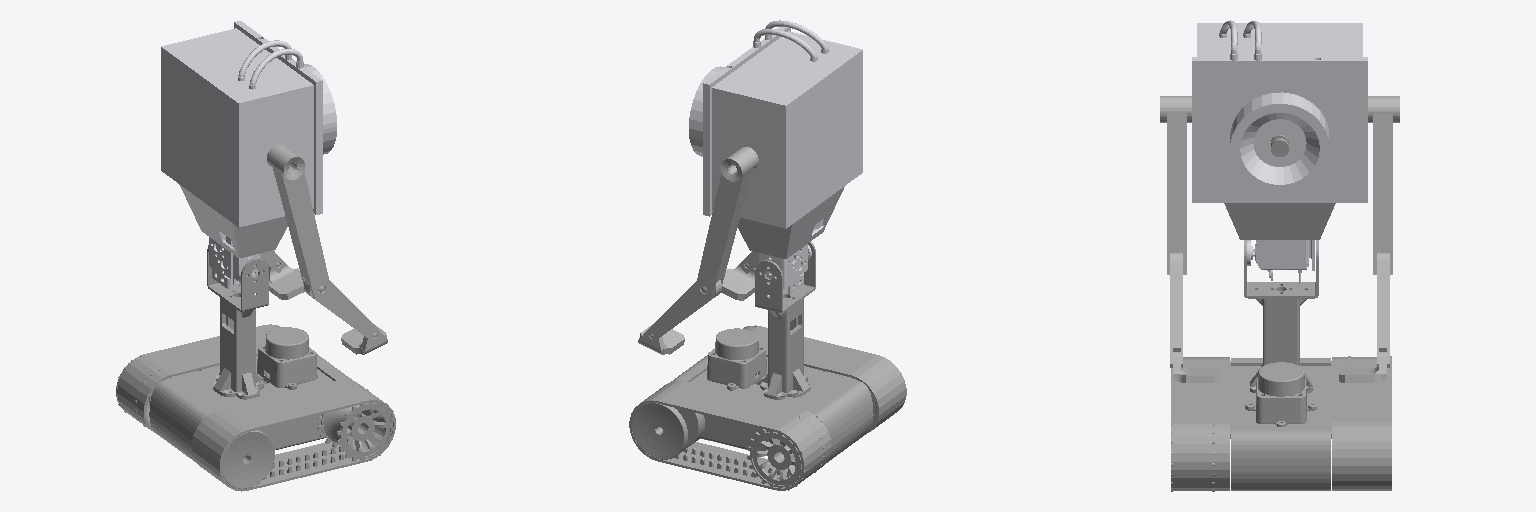
URDF robot description (黄油机器人总装.SLDASM):
<?xml version="1.0" encoding="utf-8"?>
<!-- This URDF was automatically created by SolidWorks to URDF Exporter! Originally created by [author] ([email redacted]) 
     Commit Version: 1.6.0-4-g7f85cfe  Build Version: 1.6.7995.38578
     For more information, please see http://wiki.ros.org/sw_urdf_exporter -->
<robot
  name="黄油机器人总装.SLDASM">
  <link
    name="base_link">
    <inertial>
      <origin
        xyz="-0.00292832832758017 -1.49208294795283E-06 0.0511834353991711"
        rpy="0 0 0" />
      <mass
        value="0.447143211592946" />
      <inertia
        ixx="0.000316214875469957"
        ixy="3.29989736433366E-07"
        ixz="-8.41032245913832E-08"
        iyy="0.00107570008691544"
        iyz="-4.25952370529777E-09"
        izz="0.000984927332267717" />
    </inertial>
    <visual>
      <origin
        xyz="0 0 0"
        rpy="0 0 0" />
      <geometry>
        <mesh
          filename="package://butter_robot_description/meshes/base_link.STL" />
      </geometry>
      <material
        name="">
        <color
          rgba="0.698039215686274 0.698039215686274 0.698039215686274 1" />
      </material>
    </visual>
    <collision>
      <origin
        xyz="0 0 0"
        rpy="0 0 0" />
      <geometry>
        <mesh
          filename="package://butter_robot_description/meshes/base_link.STL" />
      </geometry>
    </collision>
  </link>
  <link
    name="left_wheel_Link">
    <inertial>
      <origin
        xyz="0 0.0261582764619339 0"
        rpy="0 0 0" />
      <mass
        value="0.016704648971492" />
      <inertia
        ixx="6.0953073327811E-06"
        ixy="-5.08549572222708E-22"
        ixz="-5.30215339832847E-22"
        iyy="5.90760151421016E-06"
        iyz="-6.90750247993045E-21"
        izz="6.0953073327811E-06" />
    </inertial>
    <visual>
      <origin
        xyz="0 0 0"
        rpy="0 0 0" />
      <geometry>
        <mesh
          filename="package://butter_robot_description/meshes/left_wheel_Link.STL" />
      </geometry>
      <material
        name="">
        <color
          rgba="0.698039215686274 0.698039215686274 0.698039215686274 1" />
      </material>
    </visual>
    <collision>
      <origin
        xyz="0 0 0"
        rpy="0 0 0" />
      <geometry>
        <mesh
          filename="package://butter_robot_description/meshes/left_wheel_Link.STL" />
      </geometry>
    </collision>
  </link>
  <joint
    name="left_wheel_joint"
    type="continuous">
    <origin
      xyz="0.055 0.038192 0.021"
      rpy="0 0 0" />
    <parent
      link="base_link" />
    <child
      link="left_wheel_Link" />
    <axis
      xyz="0 1 0" />
  </joint>
  <link
    name="right_wheel_Link">
    <inertial>
      <origin
        xyz="-5.55111512312578E-17 -0.0261582764619342 1.11022302462516E-16"
        rpy="0 0 0" />
      <mass
        value="0.0167046489714922" />
      <inertia
        ixx="6.09530733278229E-06"
        ixy="-4.18274718313705E-22"
        ixz="1.15227170482192E-21"
        iyy="5.90760151421038E-06"
        iyz="-4.85071882610663E-22"
        izz="6.09530733278228E-06" />
    </inertial>
    <visual>
      <origin
        xyz="0 0 0"
        rpy="0 0 0" />
      <geometry>
        <mesh
          filename="package://butter_robot_description/meshes/right_wheel_Link.STL" />
      </geometry>
      <material
        name="">
        <color
          rgba="0.698039215686274 0.698039215686274 0.698039215686274 1" />
      </material>
    </visual>
    <collision>
      <origin
        xyz="0 0 0"
        rpy="0 0 0" />
      <geometry>
        <mesh
          filename="package://butter_robot_description/meshes/right_wheel_Link.STL" />
      </geometry>
    </collision>
  </link>
  <joint
    name="right_wheel_joint"
    type="continuous">
    <origin
      xyz="-0.055 -0.038192 0.021"
      rpy="0 0 0" />
    <parent
      link="base_link" />
    <child
      link="right_wheel_Link" />
    <axis
      xyz="0 -1 0" />
  </joint>
  <link
    name="radar_Link">
    <inertial>
      <origin
        xyz="-6.26931848729528E-06 -3.11780995042032E-05 0.00198624050311713"
        rpy="0 0 0" />
      <mass
        value="0.0135497960114241" />
      <inertia
        ixx="3.61947681707883E-06"
        ixy="3.38440833574244E-09"
        ixz="6.22863120765719E-09"
        iyy="3.56349923862262E-06"
        iyz="-5.8647614252197E-09"
        izz="4.10464453512146E-06" />
    </inertial>
    <visual>
      <origin
        xyz="0 0 0"
        rpy="0 0 0" />
      <geometry>
        <mesh
          filename="package://butter_robot_description/meshes/radar_Link.STL" />
      </geometry>
      <material
        name="">
        <color
          rgba="0.698039215686274 0.698039215686274 0.698039215686274 1" />
      </material>
    </visual>
    <collision>
      <origin
        xyz="0 0 0"
        rpy="0 0 0" />
      <geometry>
        <mesh
          filename="package://butter_robot_description/meshes/radar_Link.STL" />
      </geometry>
    </collision>
  </link>
  <joint
    name="radar_joint"
    type="fixed">
    <origin
      xyz="0.029032 0 0.0532"
      rpy="0 0 0" />
    <parent
      link="base_link" />
    <child
      link="radar_Link" />
    <axis
      xyz="0 0 0" />
  </joint>
  <link
    name="spine_Link">
    <inertial>
      <origin
        xyz="0.00921219263683126 0.0257956453067615 0.0864977425737939"
        rpy="0 0 0" />
      <mass
        value="0.476832015741623" />
      <inertia
        ixx="0.000978549246488073"
        ixy="-7.95709938134435E-07"
        ixz="1.34721390833068E-07"
        iyy="0.000569989000593808"
        iyz="4.1574780758212E-06"
        izz="0.000678453255078236" />
    </inertial>
    <visual>
      <origin
        xyz="0 0 0"
        rpy="0 0 0" />
      <geometry>
        <mesh
          filename="package://butter_robot_description/meshes/spine_Link.STL" />
      </geometry>
      <material
        name="">
        <color
          rgba="0.866666666666667 0.866666666666667 0.890196078431372 1" />
      </material>
    </visual>
    <collision>
      <origin
        xyz="0 0 0"
        rpy="0 0 0" />
      <geometry>
        <mesh
          filename="package://butter_robot_description/meshes/spine_Link.STL" />
      </geometry>
    </collision>
  </link>
  <joint
    name="spine_joint"
    type="revolute">
    <origin
      xyz="-0.016595 -0.026 0.15501"
      rpy="0 0 0" />
    <parent
      link="base_link" />
    <child
      link="spine_Link" />
    <axis
      xyz="0 1 0" />
    <limit
      lower="0"
      upper="0"
      effort="0"
      velocity="0" />
  </joint>
  <link
    name="camera_Link">
    <inertial>
      <origin
        xyz="-0.0121170231413265 -5.16154742259689E-07 0.000244839142819697"
        rpy="0 0 0" />
      <mass
        value="0.00395486151787577" />
      <inertia
        ixx="3.32122405395548E-07"
        ixy="7.47477339664124E-13"
        ixz="6.32591352996869E-09"
        iyy="2.92034948744687E-07"
        iyz="-4.99795164065902E-13"
        izz="2.88426646275173E-07" />
    </inertial>
    <visual>
      <origin
        xyz="0 0 0"
        rpy="0 0 0" />
      <geometry>
        <mesh
          filename="package://butter_robot_description/meshes/camera_Link.STL" />
      </geometry>
      <material
        name="">
        <color
          rgba="0.698039215686274 0.698039215686274 0.698039215686274 1" />
      </material>
    </visual>
    <collision>
      <origin
        xyz="0 0 0"
        rpy="0 0 0" />
      <geometry>
        <mesh
          filename="package://butter_robot_description/meshes/camera_Link.STL" />
      </geometry>
    </collision>
  </link>
  <joint
    name="camera_joint"
    type="fixed">
    <origin
      xyz="0.069858 0.024995 0.11868"
      rpy="0 0 0" />
    <parent
      link="spine_Link" />
    <child
      link="camera_Link" />
    <axis
      xyz="0 0 0" />
  </joint>
  <link
    name="left_arm_Link">
    <inertial>
      <origin
        xyz="0.0295565791825624 0.0112543076706821 -0.0875821033420051"
        rpy="0 0 0" />
      <mass
        value="0.0563464968853677" />
      <inertia
        ixx="4.70144557099414E-05"
        ixy="-9.05637316684821E-08"
        ixz="1.27896751265621E-05"
        iyy="5.19911100719117E-05"
        iyz="3.74801012828041E-07"
        izz="8.64637358263827E-06" />
    </inertial>
    <visual>
      <origin
        xyz="0 0 0"
        rpy="0 0 0" />
      <geometry>
        <mesh
          filename="package://butter_robot_description/meshes/left_arm_Link.STL" />
      </geometry>
      <material
        name="">
        <color
          rgba="0.752941176470588 0.752941176470588 0.752941176470588 1" />
      </material>
    </visual>
    <collision>
      <origin
        xyz="0 0 0"
        rpy="0 0 0" />
      <geometry>
        <mesh
          filename="package://butter_robot_description/meshes/left_arm_Link.STL" />
      </geometry>
    </collision>
  </link>
  <joint
    name="left_arm_joint"
    type="revolute">
    <origin
      xyz="-0.00014152 0.089595 0.11868"
      rpy="0 0 0" />
    <parent
      link="spine_Link" />
    <child
      link="left_arm_Link" />
    <axis
      xyz="0 -1 0" />
    <limit
      lower="0"
      upper="0"
      effort="0"
      velocity="0" />
  </joint>
  <link
    name="right_arm_Link">
    <inertial>
      <origin
        xyz="0.0296716767832235 -0.0112543076779538 -0.0875540624679464"
        rpy="0 0 0" />
      <mass
        value="0.0563464968970425" />
      <inertia
        ixx="4.70007133198319E-05"
        ixy="9.17740166440466E-08"
        ixz="1.28162047525588E-05"
        iyy="5.1991110133436E-05"
        iyz="-3.74506162811522E-07"
        izz="8.66011596552853E-06" />
    </inertial>
    <visual>
      <origin
        xyz="0 0 0"
        rpy="0 0 0" />
      <geometry>
        <mesh
          filename="package://butter_robot_description/meshes/right_arm_Link.STL" />
      </geometry>
      <material
        name="">
        <color
          rgba="0.752941176470588 0.752941176470588 0.752941176470588 1" />
      </material>
    </visual>
    <collision>
      <origin
        xyz="0 0 0"
        rpy="0 0 0" />
      <geometry>
        <mesh
          filename="package://butter_robot_description/meshes/right_arm_Link.STL" />
      </geometry>
    </collision>
  </link>
  <joint
    name="right_arm_joint"
    type="revolute">
    <origin
      xyz="-0.00014152 -0.039605 0.11868"
      rpy="0 0 0" />
    <parent
      link="spine_Link" />
    <child
      link="right_arm_Link" />
    <axis
      xyz="0 -1 0" />
    <limit
      lower="0"
      upper="0"
      effort="0"
      velocity="0" />
  </joint>
</robot>

--- Render facts (derived) ---
3 views of the same robot in one strip: view 1: azimuth 30°, elevation 25°; view 2: azimuth 150°, elevation 25°; view 3: azimuth 270°, elevation 25° (orthographic).
Robot: 黄油机器人总装.SLDASM — 8 links, 7 joints (3 revolute, 2 continuous, 2 fixed); root link base_link; default pose: all joints at 0.
Links seen in each view (by area): view 1: spine_Link, base_link, right_arm_Link, radar_Link, right_wheel_Link, left_arm_Link; view 2: spine_Link, base_link, left_arm_Link, left_wheel_Link, radar_Link, right_arm_Link; view 3: spine_Link, base_link, right_arm_Link, left_arm_Link, radar_Link.
Boxes of the visible links, bbox=[...] form: spine_Link: bbox=[161, 21, 336, 288]; base_link: bbox=[116, 245, 395, 491]; right_arm_Link: bbox=[267, 145, 387, 354]; radar_Link: bbox=[257, 327, 317, 389]; right_wheel_Link: bbox=[222, 430, 274, 488]; left_arm_Link: bbox=[260, 250, 304, 299]; spine_Link: bbox=[689, 20, 862, 294]; base_link: bbox=[629, 242, 906, 490]; left_arm_Link: bbox=[638, 147, 758, 354]; left_wheel_Link: bbox=[632, 403, 704, 459]; radar_Link: bbox=[707, 328, 766, 390]; right_arm_Link: bbox=[721, 251, 758, 300]; spine_Link: bbox=[1192, 20, 1367, 283]; base_link: bbox=[1171, 240, 1391, 491]; right_arm_Link: bbox=[1160, 96, 1220, 382]; left_arm_Link: bbox=[1339, 96, 1399, 382]; radar_Link: bbox=[1245, 362, 1316, 426].
Bounding box of the posed robot: 0.1643 × 0.1796 × 0.3583 m (x, y, z).
Meshes: 8 distinct files referenced, 8 mesh visuals loaded (8 binary STL).